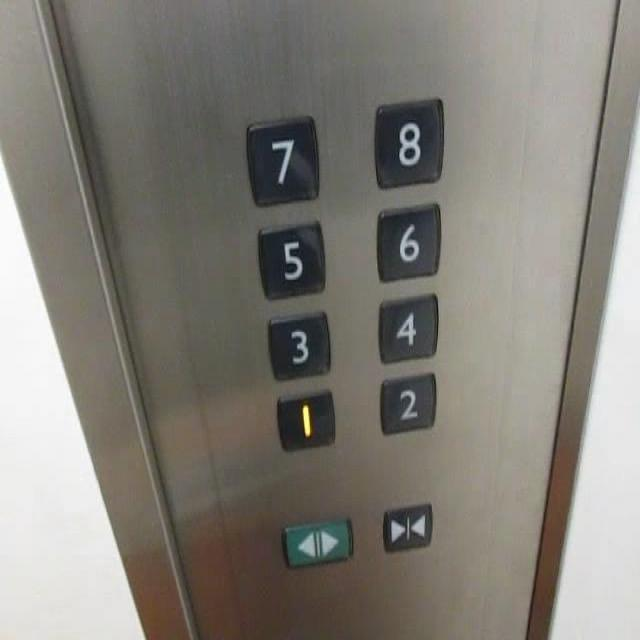1: (273, 387, 337, 452)
2: (376, 368, 437, 439)
3: (267, 309, 329, 380)
4: (377, 289, 437, 364)
5: (255, 218, 325, 298)
6: (375, 200, 441, 283)
7: (244, 115, 318, 206)
8: (372, 96, 444, 189)
close: (378, 499, 435, 553)
open: (282, 512, 354, 568)
